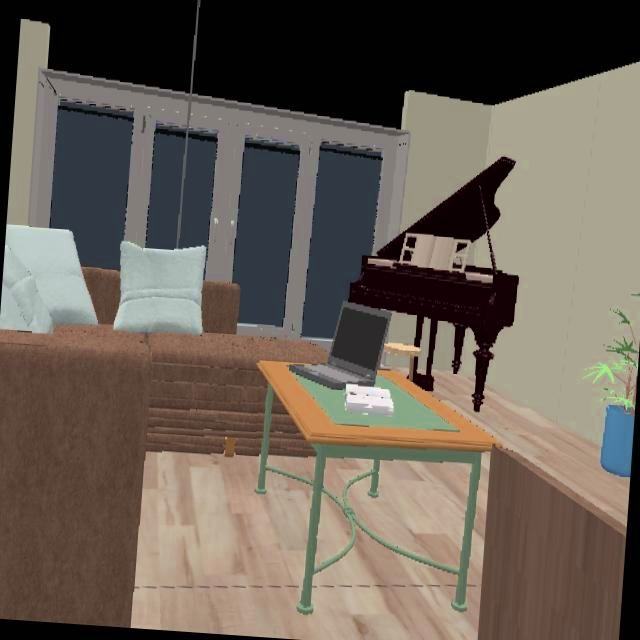book: (344, 383, 393, 416)
laptop: (295, 304, 392, 390)
pillow: (0, 224, 97, 335), (113, 242, 207, 336)
sofa: (0, 267, 327, 627), (478, 451, 625, 640)
table: (260, 364, 495, 463)
